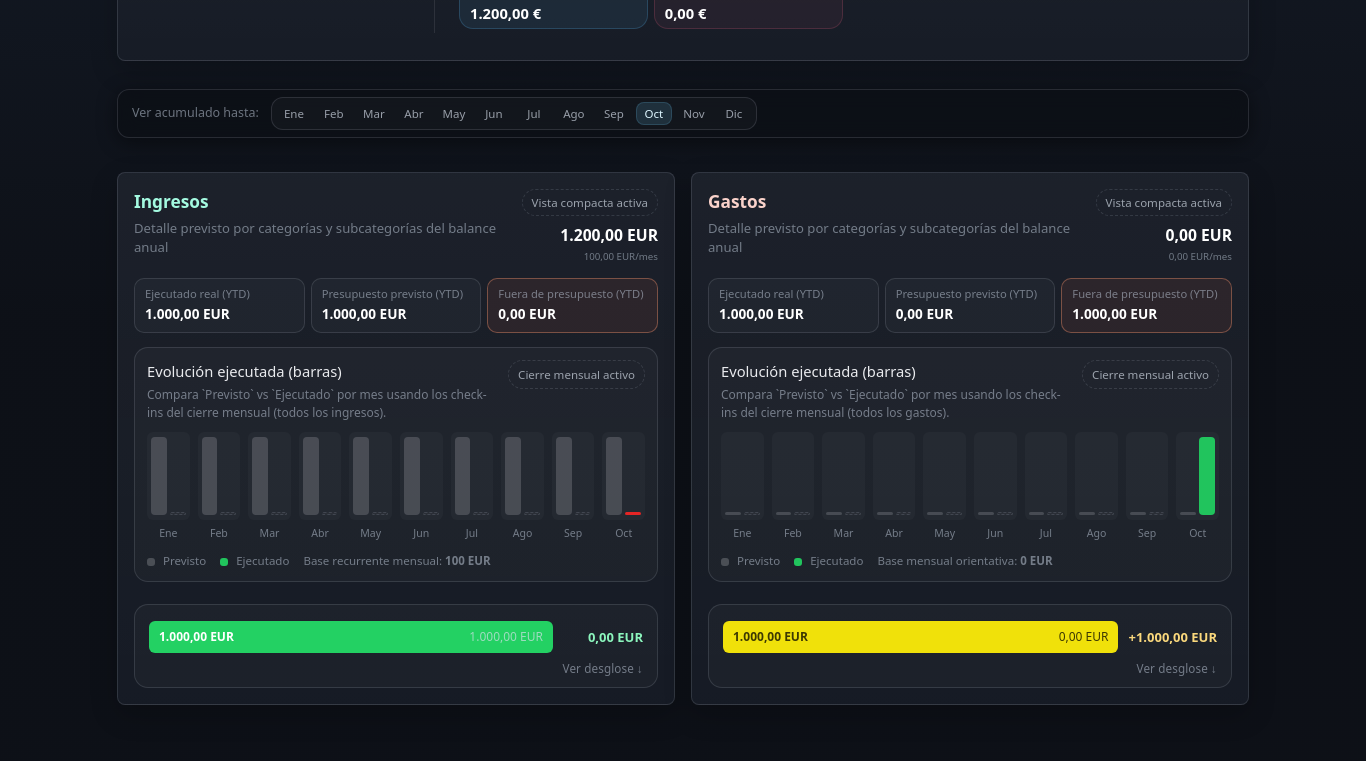
BudgetDashboardView › nets only rotatory deposit sales out of the income KPI
The width and height of the screenshot is (1366, 761).
(page scrolled)
Step 1. Click the button "Ver desglose ↓" below "Base recurrente mensual:" → coordinates (603, 669), box 562,661 -> 643,677
(page scrolled)
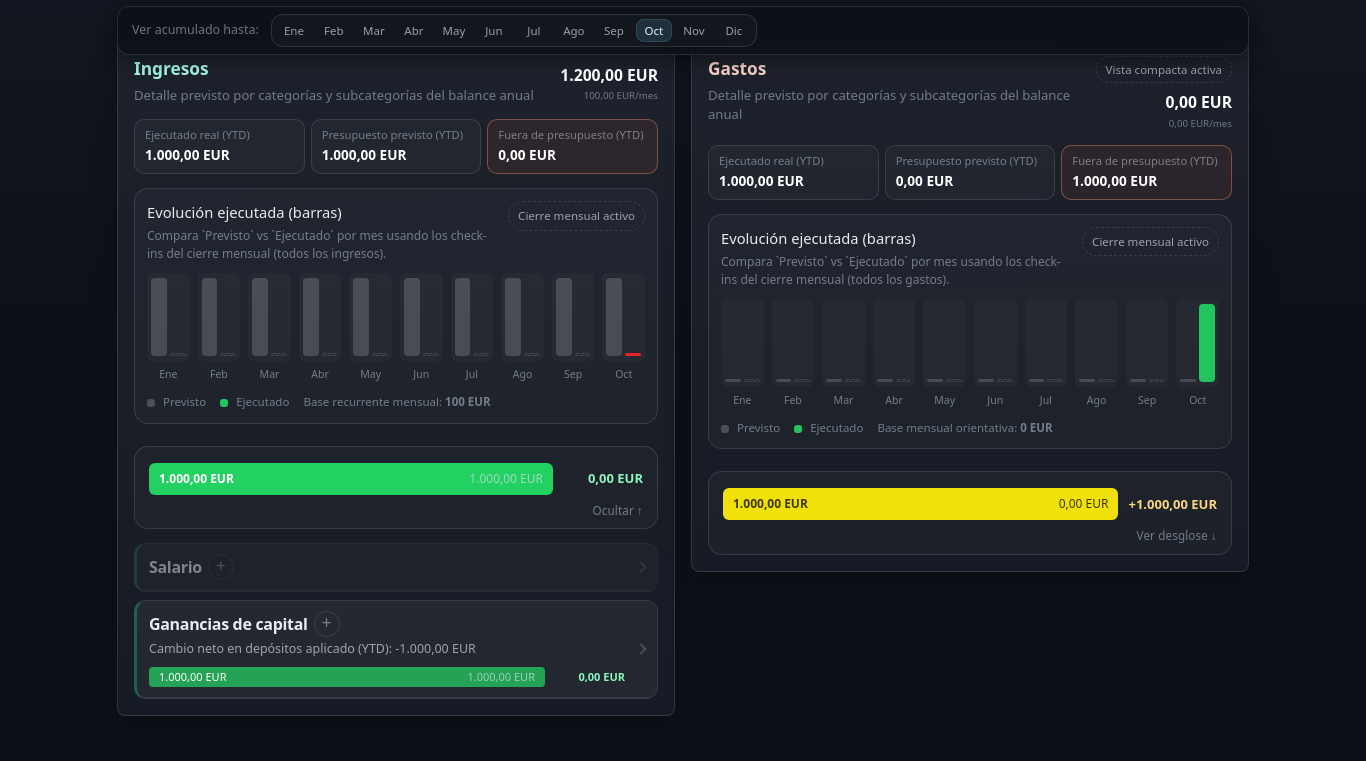
Expected: the element with class "ui-budget-section-income" shows "0,00 EUR", 498,145 -> 556,164
Now the element with class "ui-budget-section-income" shows "Cambio neto en depósitos aplicado (YTD): -1.000,00 EUR", box 149,640 -> 476,657
